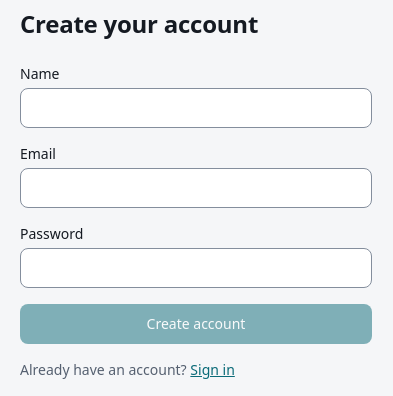
Test: RegisterPage › enables submit for a valid form
The width and height of the screenshot is (393, 396).
In the field labelled "Name": (196, 108) [20,88,372,128], type "Ada"
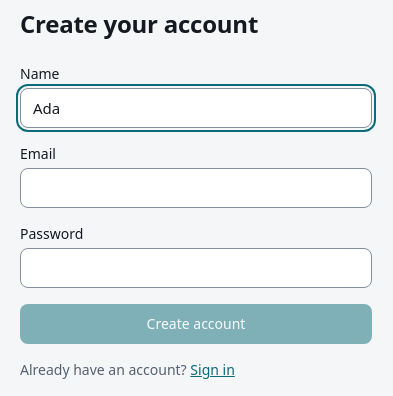
In the field labelled "Email": (196, 188) [20,168,372,208], type "ada@x.test"
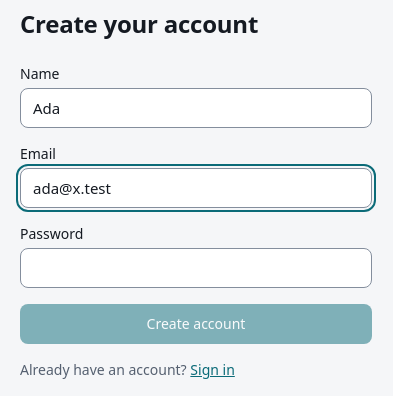
In the password field labelled "Password": (196, 268) [20,248,372,288], type "Longenough1"
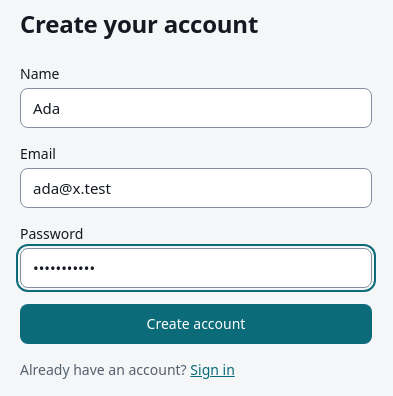
Result: the button "Create account" is enabled at [20,304,372,344]
